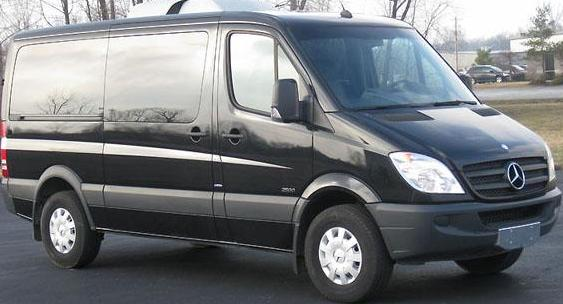front_view: (386, 133, 563, 267)
headlight: (385, 144, 479, 204)
side_glass: (109, 32, 310, 130)
